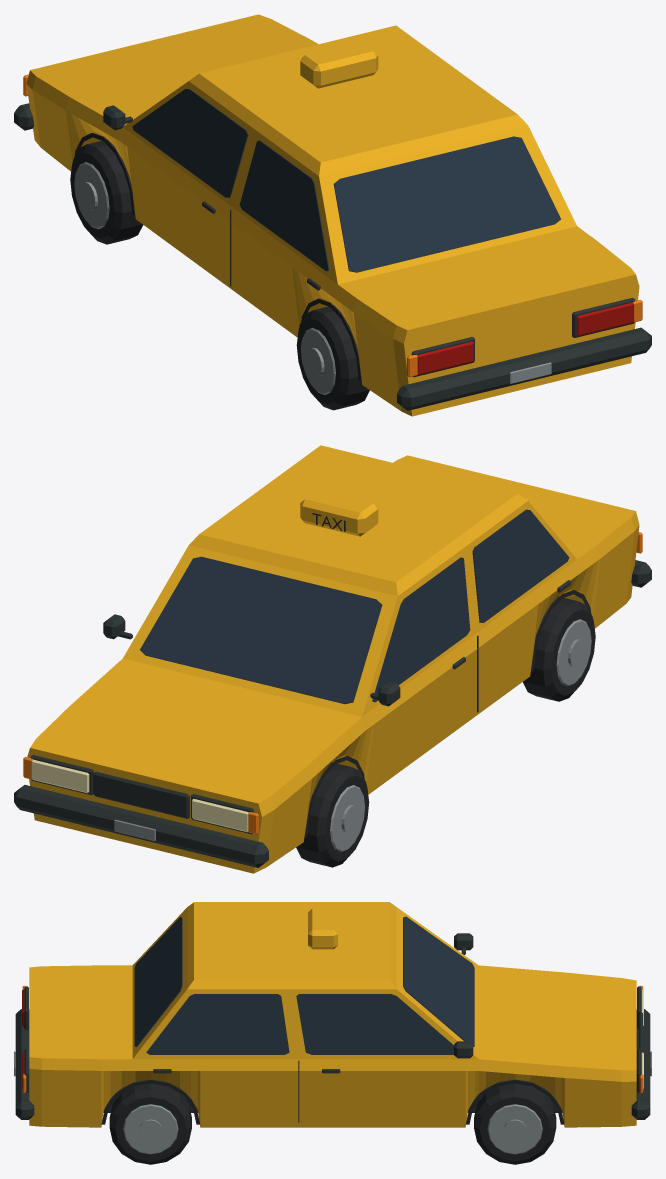
File: 10_Taxi.fbx
3 renders of one model, top to bottom at view 1: azimuth 30°, elevation 25°; view 2: azimuth 150°, elevation 25°; view 3: azimuth 270°, elevation 25°, orthographic. The views are drawn at different scales.
Visible parts, largest first — view 1: Continuous body with open wheel arches.010, Raked cabin with chamfered roof.009, Framed rear windshield.007, Side glass -1 pane 1.007, Moulded bumper.019, Side glass -1 pane 0.008, WheelFL_ShapedSidewall.009, WheelRL_ShapedSidewall.009, TAXI roof light, WheelFL_Rim.009, WheelRL_Rim.009, Tail lamp.019 (+1 smaller); view 2: Continuous body with open wheel arches.010, Raked cabin with chamfered roof.009, Framed opaque windshield.009, Side glass -1 pane 1.007, Moulded bumper.018, Side glass -1 pane 0.008, WheelRL_ShapedSidewall.009, WheelFL_ShapedSidewall.009, TAXI roof light, Inset radiator grille.009, WheelRL_Rim.009, WheelFL_Rim.009 (+2 smaller); view 3: Continuous body with open wheel arches.010, Raked cabin with chamfered roof.009, Side glass 1 pane 1.007, Side glass 1 pane 0.008, Framed opaque windshield.009, Framed rear windshield.007, WheelFR_ShapedSidewall.009, WheelRR_ShapedSidewall.009, WheelFR_Rim.009, WheelRR_Rim.009, Moulded bumper.019, TAXI roof light (+6 smaller).
Boxes of the visible parts, left/top/right/bottom form: Continuous body with open wheel arches.010: left=26, top=14, right=639, bottom=416; Raked cabin with chamfered roof.009: left=123, top=25, right=576, bottom=284; Framed rear windshield.007: left=333, top=136, right=560, bottom=272; Side glass -1 pane 1.007: left=132, top=89, right=248, bottom=197; Moulded bumper.019: left=397, top=327, right=651, bottom=410; Side glass -1 pane 0.008: left=239, top=140, right=329, bottom=271; WheelFL_ShapedSidewall.009: left=70, top=139, right=142, bottom=244; WheelRL_ShapedSidewall.009: left=296, top=305, right=369, bottom=410; TAXI roof light: left=300, top=41, right=378, bottom=88; WheelFL_Rim.009: left=74, top=162, right=109, bottom=229; WheelRL_Rim.009: left=301, top=328, right=335, bottom=394; Tail lamp.019: left=576, top=302, right=633, bottom=335; Continuous body with open wheel arches.010: left=27, top=455, right=639, bottom=873; Raked cabin with chamfered roof.009: left=123, top=445, right=576, bottom=716; Framed opaque windshield.009: left=140, top=556, right=382, bottom=704; Side glass -1 pane 1.007: left=372, top=557, right=470, bottom=702; Moulded bumper.018: left=14, top=785, right=268, bottom=867; Side glass -1 pane 0.008: left=472, top=509, right=569, bottom=622; WheelRL_ShapedSidewall.009: left=523, top=596, right=595, bottom=701; WheelFL_ShapedSidewall.009: left=296, top=762, right=369, bottom=867; TAXI roof light: left=300, top=489, right=378, bottom=536; Inset radiator grille.009: left=93, top=771, right=189, bottom=818; WheelRL_Rim.009: left=556, top=619, right=591, bottom=686; WheelFL_Rim.009: left=330, top=785, right=364, bottom=852; Continuous body with open wheel arches.010: left=29, top=965, right=636, bottom=1127; Raked cabin with chamfered roof.009: left=132, top=902, right=478, bottom=1059; Side glass 1 pane 1.007: left=296, top=994, right=453, bottom=1054; Side glass 1 pane 0.008: left=146, top=994, right=289, bottom=1054; Framed opaque windshield.009: left=403, top=916, right=474, bottom=1046; Framed rear windshield.007: left=134, top=917, right=182, bottom=1047; WheelFR_ShapedSidewall.009: left=474, top=1083, right=556, bottom=1164; WheelRR_ShapedSidewall.009: left=109, top=1083, right=191, bottom=1164; WheelFR_Rim.009: left=487, top=1104, right=542, bottom=1154; WheelRR_Rim.009: left=123, top=1104, right=178, bottom=1154; Moulded bumper.019: left=15, top=1009, right=34, bottom=1119; TAXI roof light: left=308, top=908, right=337, bottom=949.
Bounding box in the file's own units: 214 × 174 × 510.
